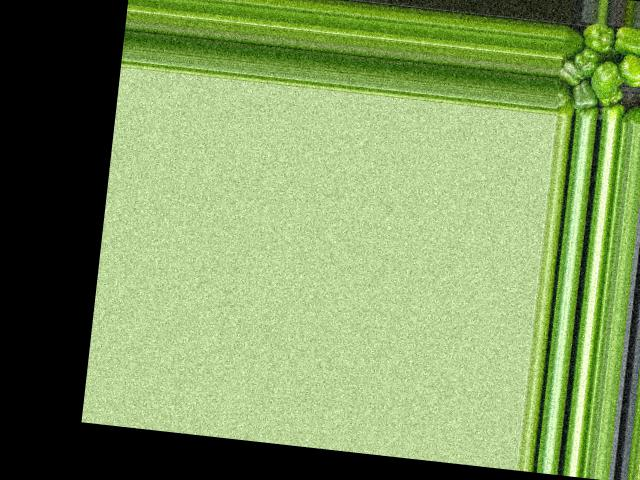bell_pepper: (560, 33, 584, 62)
